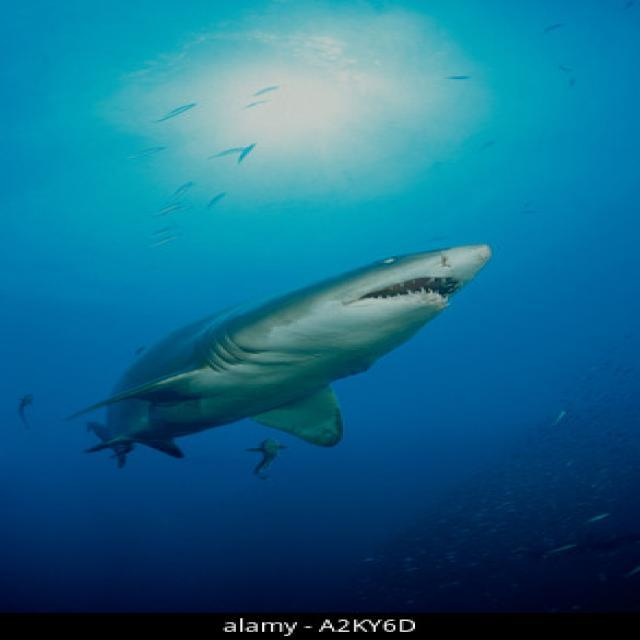Shark: (63, 200, 520, 473)
